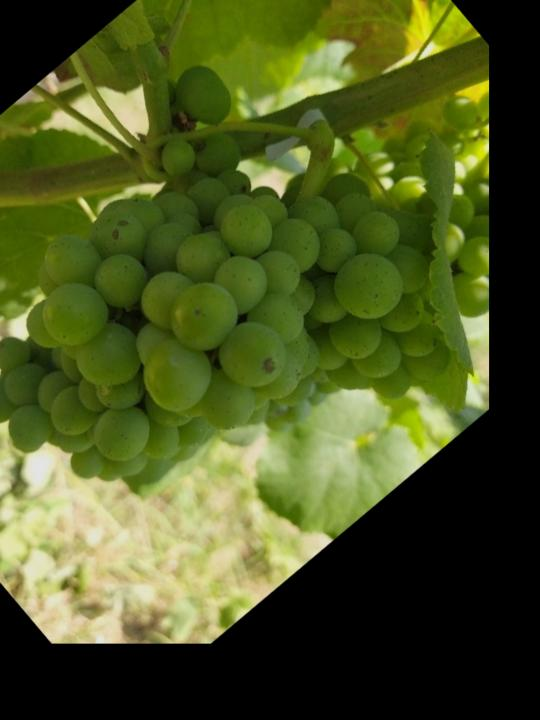grape: (0, 7, 516, 623)
